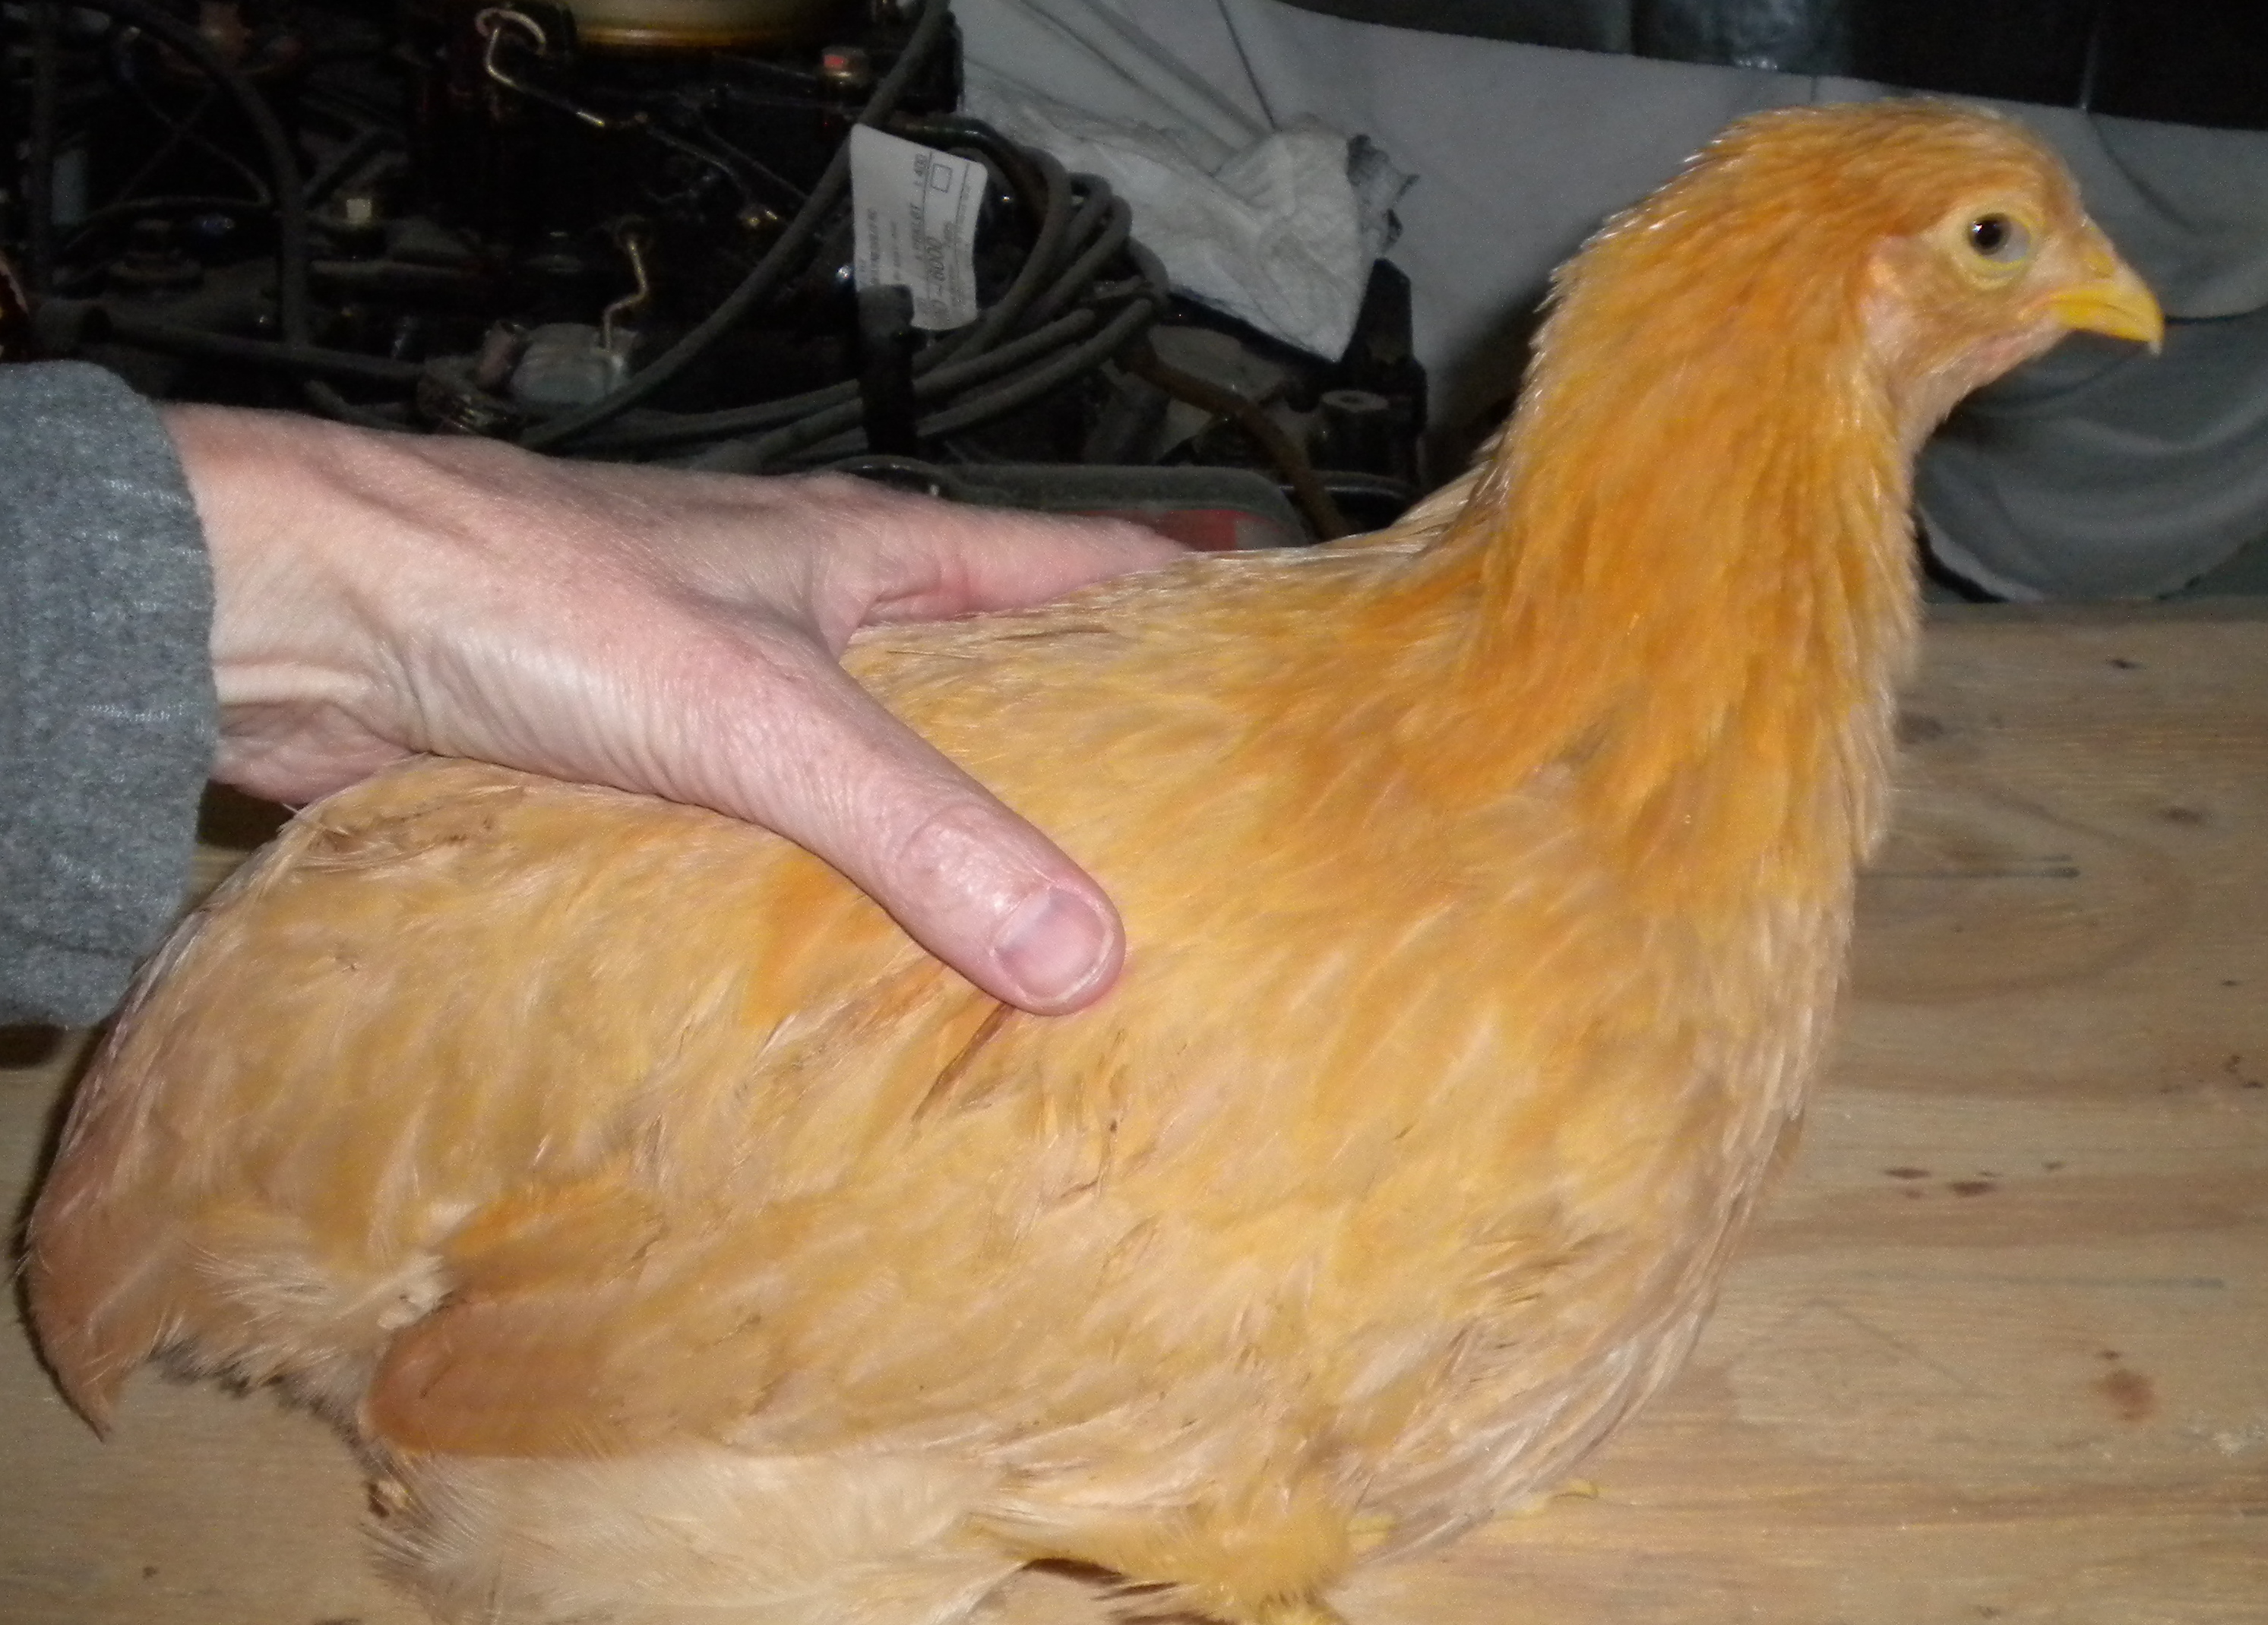buff: (1043, 67, 2189, 1166)
